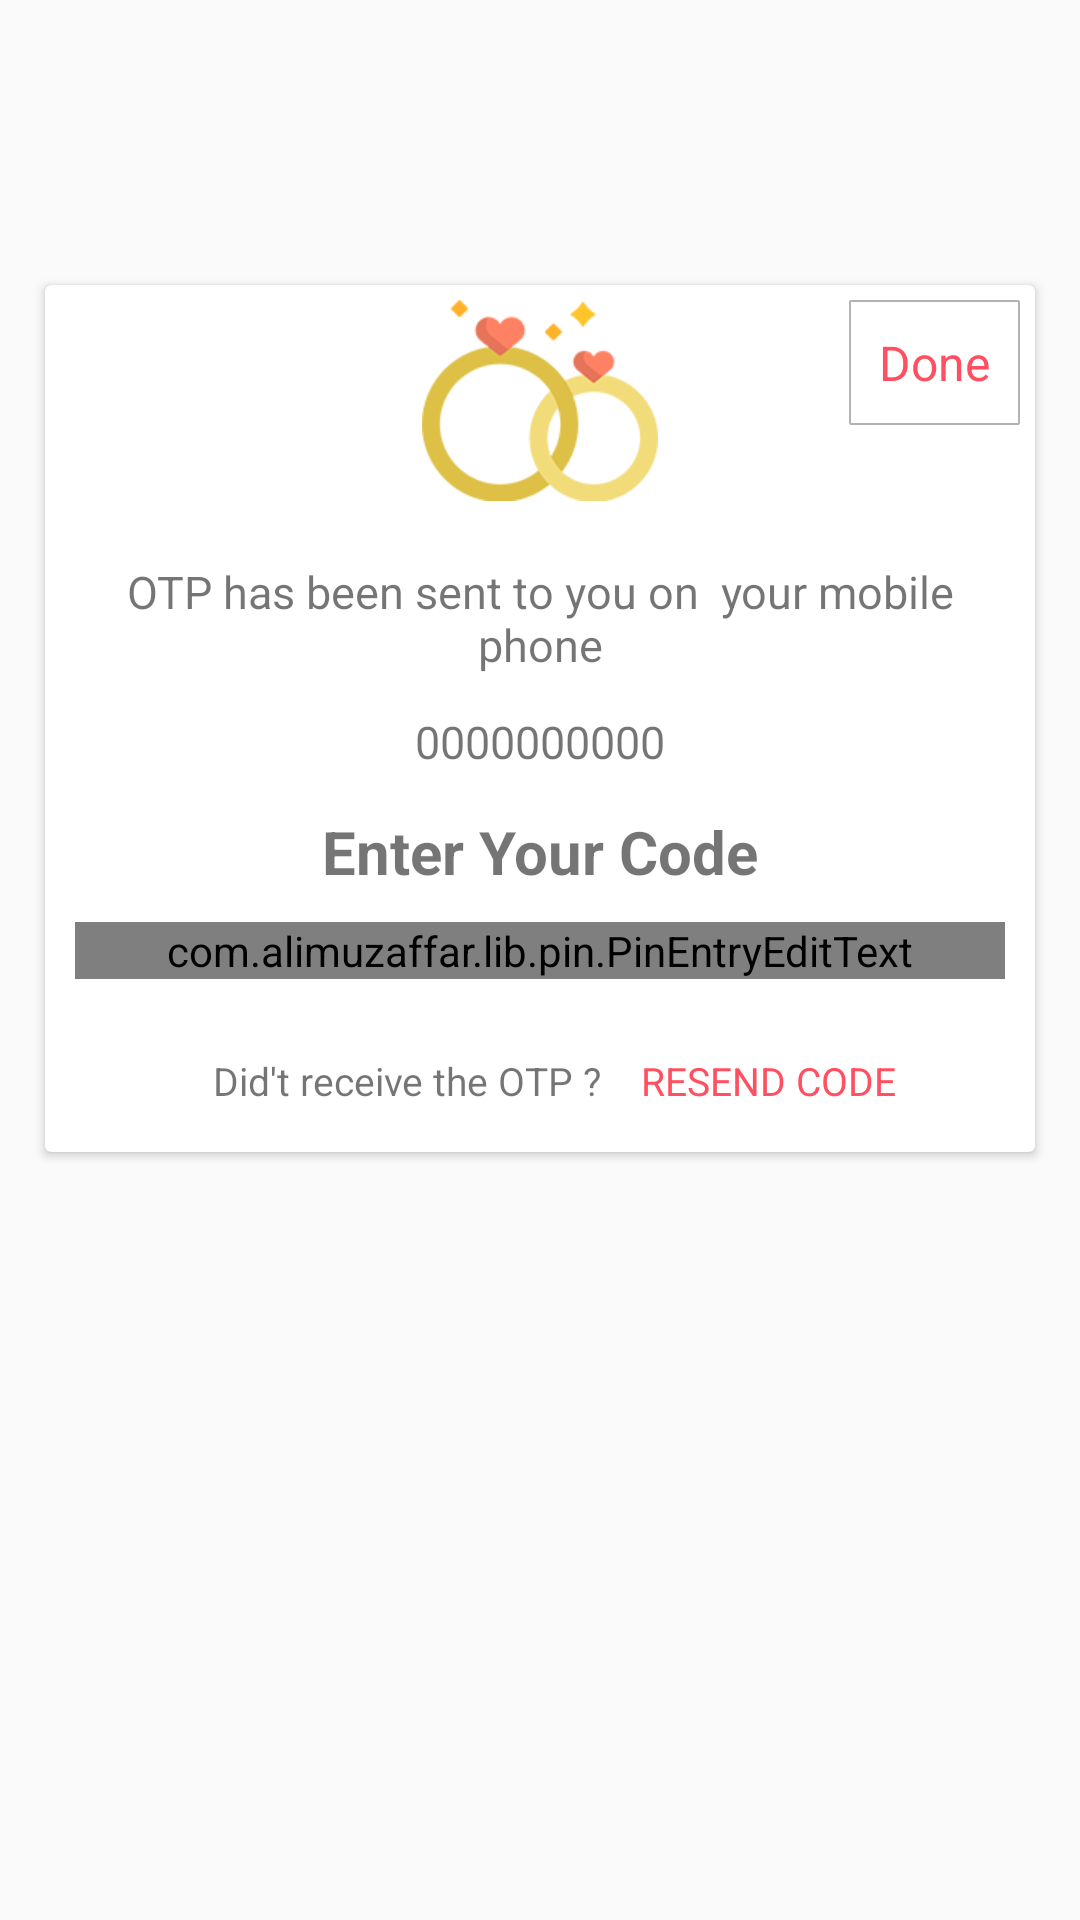

Locate icon controls on the screen. Image size 1080w x 1920h, boxes as (x1, y1, x2, y2).
ring: (422, 300, 658, 501)
